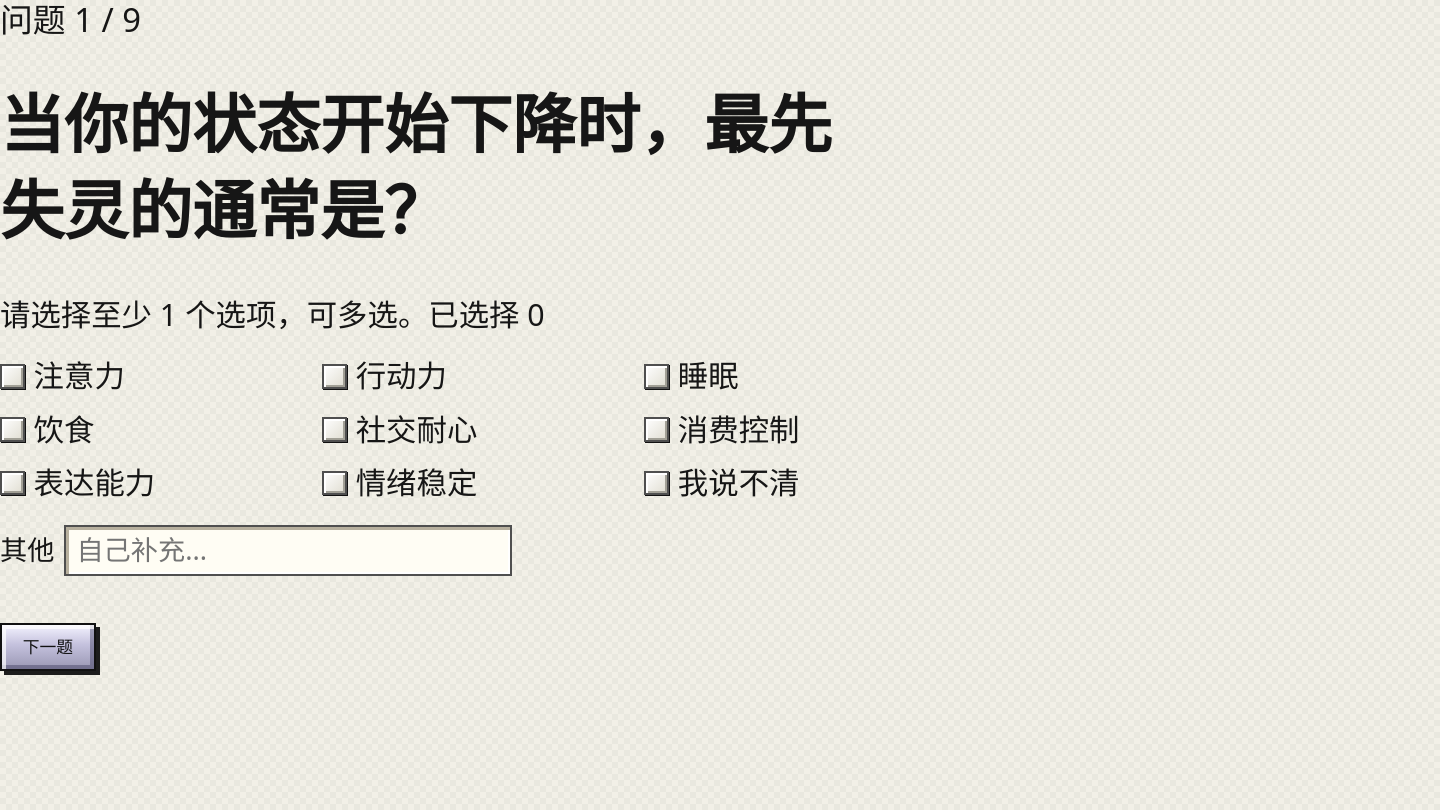
Test: OnboardingFlow › counts the custom other answer as a valid multi-select answer
Step 1. Type "打开消息会先卡住" into the field named "问题 1 的其他回答" → (288, 550), box [64,524,512,576]
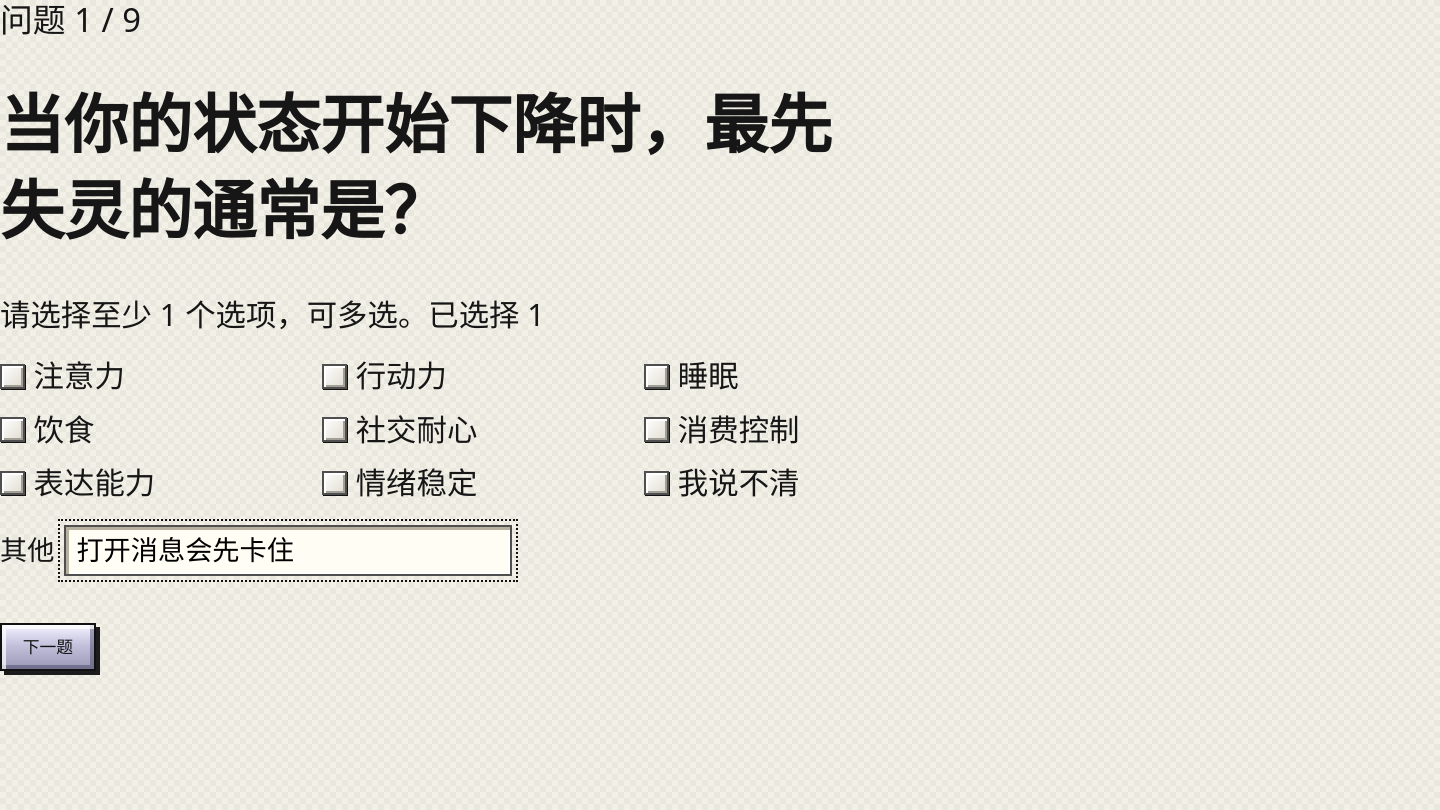
Step 2. Click the button "下一题" → (48, 648), box [0,624,96,672]
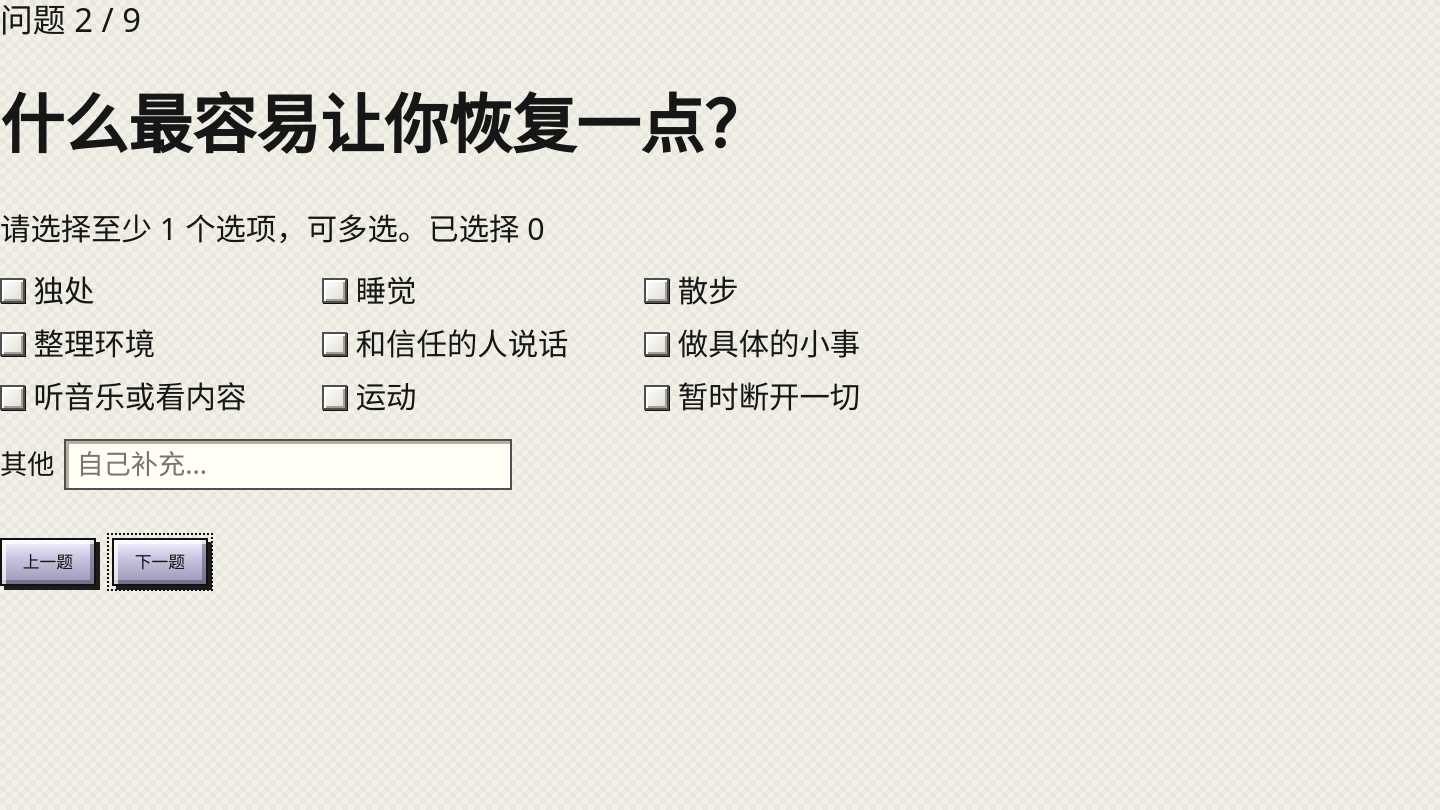
Now the heading "什么最容易让你恢复一点？" is shown, box [0,81,832,167]
